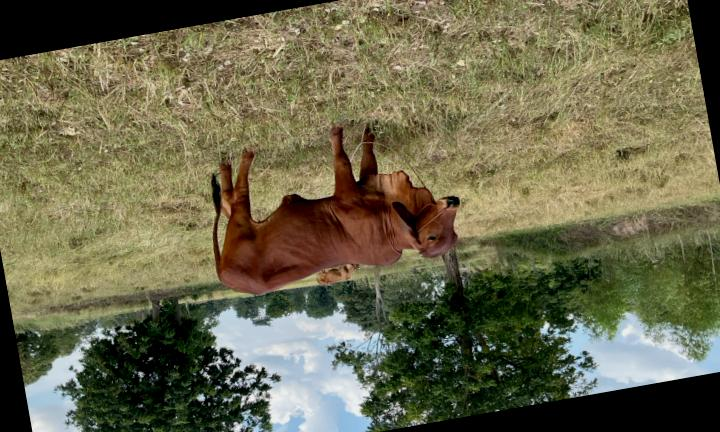Brahman: (212, 126, 460, 294)
